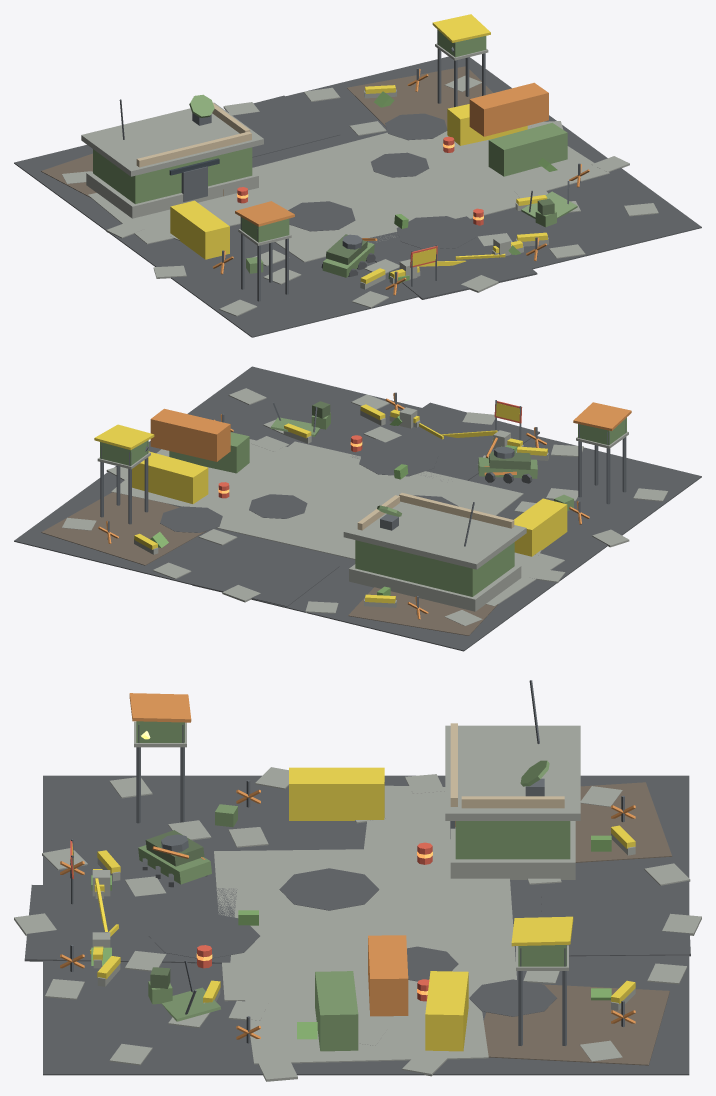
The model's file is military_checkpoint.glb.
3 views of the same model, one above another, from view 1: azimuth 30°, elevation 25°; view 2: azimuth 150°, elevation 25°; view 3: azimuth 270°, elevation 25° (orthographic). The views are drawn at different scales.
Visible parts, largest first — view 1: Arena_ScorchBase, Slab_ArenaCenter, Bunker_HeavyRoofDeck, Slab_Lane1_SouthEntry, Bunker_ConcreteWalls, Slab_Lane3_NE_Containers, Slab_EastContainerPad, Slab_Lane_NorthRear, Container_Rust_3, Container_Olive_1, Slab_WestBunkerPad, Container_Yellow_4 (+16 smaller); view 2: Arena_ScorchBase, Slab_ArenaCenter, Bunker_HeavyRoofDeck, Slab_Lane3_NE_Containers, Slab_Lane_NorthRear, Slab_Lane1_SouthEntry, Bunker_ConcreteWalls, Slab_EastContainerPad, Container_Rust_3, Slab_Lane2_NW_Breach, Container_Yellow_2, Bunker_HeavyBase (+13 smaller); view 3: Arena_ScorchBase, Slab_ArenaCenter, Bunker_HeavyRoofDeck, Slab_Lane1_SouthEntry, Slab_Lane3_NE_Containers, Slab_EastContainerPad, Slab_Lane_NorthRear, Container_Yellow_4, Slab_WestBunkerPad, Slab_Lane2_NW_Breach, Bunker_ConcreteWalls, BlastCrater_SouthEntry (+25 smaller).
Part boxes in pixels (<box>): Arena_ScorchBase: <box>14,56,701,337</box>; Slab_ArenaCenter: <box>252,132,516,262</box>; Bunker_HeavyRoofDeck: <box>81,102,263,176</box>; Slab_Lane1_SouthEntry: <box>367,216,537,299</box>; Bunker_ConcreteWalls: <box>93,147,252,203</box>; Slab_Lane3_NE_Containers: <box>347,66,492,128</box>; Slab_EastContainerPad: <box>411,125,609,198</box>; Slab_Lane_NorthRear: <box>225,95,339,157</box>; Container_Rust_3: <box>469,82,548,136</box>; Container_Olive_1: <box>488,122,567,176</box>; Slab_WestBunkerPad: <box>88,189,266,244</box>; Container_Yellow_4: <box>170,200,229,259</box>; Arena_ScorchBase: <box>14,366,701,651</box>; Slab_ArenaCenter: <box>216,441,523,559</box>; Bunker_HeavyRoofDeck: <box>343,495,526,569</box>; Slab_Lane3_NE_Containers: <box>41,492,206,565</box>; Slab_Lane_NorthRear: <box>192,544,339,606</box>; Slab_Lane1_SouthEntry: <box>352,402,539,480</box>; Bunker_ConcreteWalls: <box>355,540,514,596</box>; Slab_EastContainerPad: <box>111,439,303,515</box>; Container_Rust_3: <box>150,408,230,461</box>; Slab_Lane2_NW_Breach: <box>348,587,498,635</box>; Container_Yellow_2: <box>132,451,208,503</box>; Bunker_HeavyBase: <box>349,564,521,611</box>; Arena_ScorchBase: <box>43,775,689,1075</box>; Slab_ArenaCenter: <box>214,848,516,1001</box>; Bunker_HeavyRoofDeck: <box>445,725,580,820</box>; Slab_Lane1_SouthEntry: <box>24,885,237,963</box>; Slab_Lane3_NE_Containers: <box>483,984,669,1065</box>; Slab_EastContainerPad: <box>245,983,488,1064</box>; Slab_Lane_NorthRear: <box>541,892,690,956</box>; Container_Yellow_4: <box>289,767,384,820</box>; Slab_WestBunkerPad: <box>361,785,450,873</box>; Slab_Lane2_NW_Breach: <box>575,782,672,862</box>; Bunker_ConcreteWalls: <box>455,821,570,859</box>; BlastCrater_SouthEntry: <box>149,912,259,958</box>.
Bounding box in the file's own units: 50.31 × 10.06 × 46.82.
